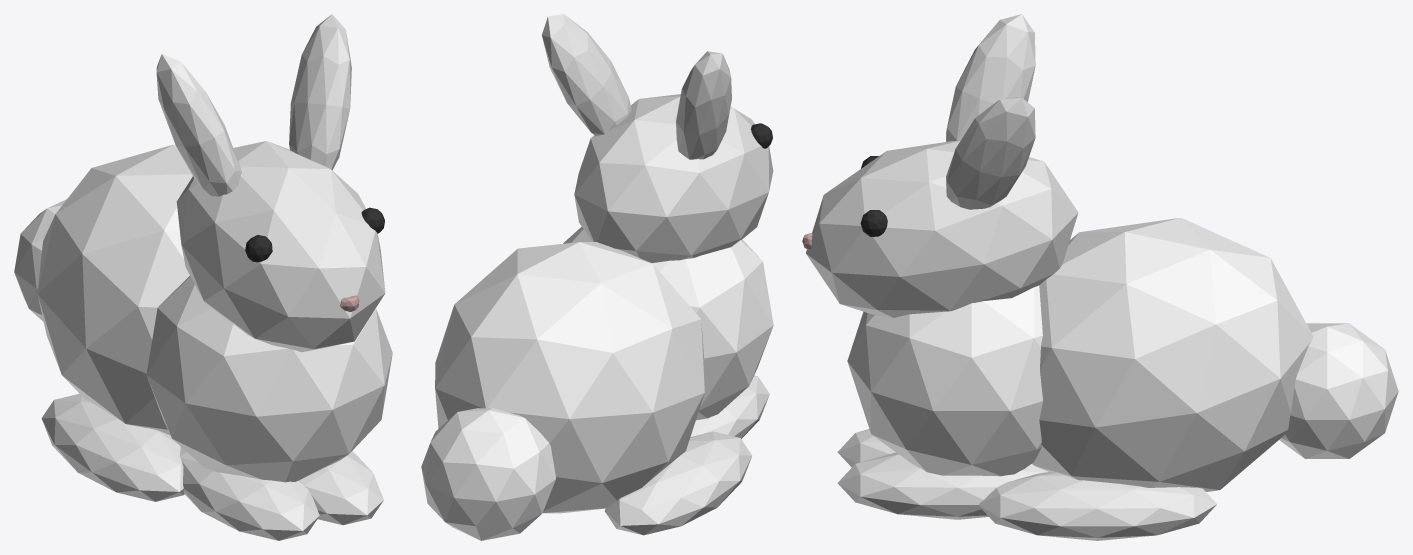
The model's file is LowPolyBunny.fbx.
3 renders of one model, left to right at view 1: azimuth 30°, elevation 25°; view 2: azimuth 150°, elevation 25°; view 3: azimuth 270°, elevation 25°, orthographic. The views are drawn at different scales.
Visible parts, largest first — view 1: Icosphere, Head, Icosphere.001, Legs, Ears, Tail, Eyes; view 2: Icosphere.001, Head, Tail, Icosphere, Ears, Legs; view 3: Icosphere.001, Head, Icosphere, Legs, Ears, Tail.
Part boxes in pixels (bbox=[...]): Icosphere: bbox=[146, 276, 392, 482]; Head: bbox=[176, 141, 385, 352]; Icosphere.001: bbox=[37, 144, 192, 434]; Legs: bbox=[41, 393, 383, 540]; Ears: bbox=[156, 14, 351, 196]; Tail: bbox=[14, 199, 66, 321]; Eyes: bbox=[245, 207, 384, 262]; Icosphere.001: bbox=[435, 242, 704, 513]; Head: bbox=[574, 94, 773, 262]; Tail: bbox=[421, 407, 555, 540]; Icosphere: bbox=[563, 226, 773, 420]; Ears: bbox=[542, 14, 731, 159]; Legs: bbox=[604, 375, 769, 535]; Icosphere.001: bbox=[1032, 217, 1313, 491]; Head: bbox=[806, 140, 1078, 317]; Icosphere: bbox=[847, 285, 1042, 476]; Legs: bbox=[837, 429, 1216, 540]; Ears: bbox=[946, 14, 1035, 209]; Tail: bbox=[1279, 323, 1398, 458].
Bounding box in the file's own units: 33.52 × 57.14 × 69.56.
